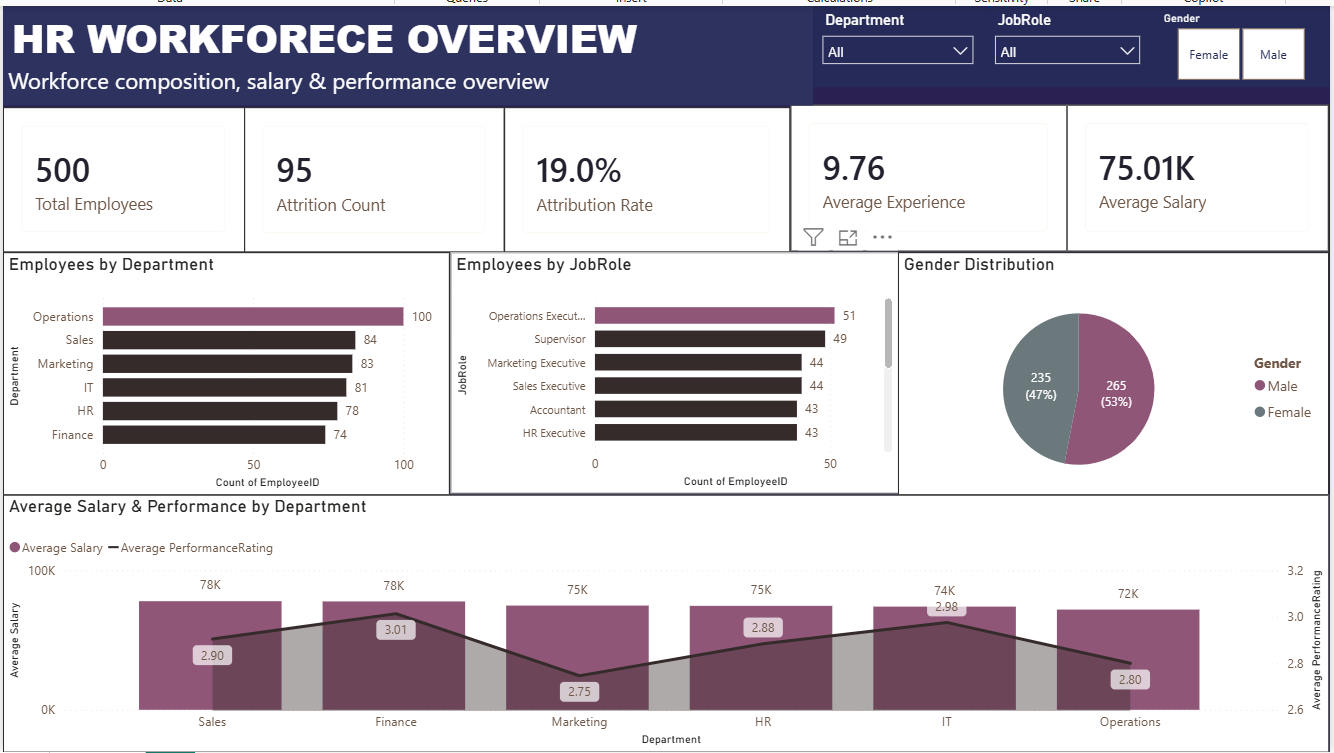

The dashboard page shown, as its layout file describes it:
{"tool":"powerbi","page":{"name":"Page 1","canvas":[1280,720],"ordinal":0},"visuals":[{"type":"cardVisual","fields":{"Data":["Sheet.Total Employees"]},"box":[0,97.4,233.3,140],"z":0},{"type":"cardVisual","title":"Attrition Count","fields":{"Data":["Sheet.attrition count"]},"box":[232.9,97.1,251.4,140],"z":1000},{"type":"cardVisual","fields":{"Data":["Sheet.attribution rate"]},"box":[484.3,97.1,275.7,140],"z":2000},{"type":"cardVisual","fields":{"Data":["Avg(Sheet.Experience)"]},"box":[760,95.7,267.1,141.4],"z":3000},{"type":"barChart","title":" Employees by Department","fields":{"Y":["CountNonNull(Sheet.EmployeeID)"],"Category":["Sheet.Department"]},"box":[0,237.4,430.9,234.6],"z":4000},{"type":"cardVisual","fields":{"Data":["Avg(Sheet.Salary)"]},"box":[1027.1,95.7,252.9,141.4],"z":5000},{"type":"barChart","title":" Employees by JobRole","fields":{"Category":["Sheet.JobRole"],"Y":["CountNonNull(Sheet.EmployeeID)"]},"box":[431.4,237.1,432.9,232.9],"z":6000},{"type":"slicer","fields":{"Values":["Sheet.Department"]},"box":[780.8,0,166,78.2],"z":7000},{"type":"pieChart","title":"Gender Distribution","fields":{"Y":["CountNonNull(Sheet.Gender)"],"Category":["Sheet.Gender"]},"box":[864.3,237.1,415.7,234.3],"z":11000},{"type":"lineClusteredColumnComboChart","title":"Average Salary & Performance by Department","fields":{"Category":["Sheet.Department"],"Y2":["Avg(Sheet.PerformanceRating)"],"Y":["Avg(Sheet.Salary)"]},"box":[0,471.4,1280,248.6],"z":12000},{"type":"slicer","fields":{"Values":["Sheet.JobRole"]},"box":[946.8,0,160.5,78.2],"z":13000},{"type":"slicer","fields":{"Values":["Sheet.Gender"]},"box":[1107.4,0,172.9,78.2],"z":14000},{"type":"textbox","box":[0,0,781.4,95.7],"z":15000}]}

Visuals, with their boxes in screenshot pixels (x1, y1, x2, y2):
cardVisual - Sheet.Total Employees: <box>7,104,247,247</box>
"Attrition Count" cardVisual: <box>246,103,505,247</box>
cardVisual - Sheet.attribution rate: <box>505,103,788,247</box>
cardVisual - Avg(Sheet.Experience): <box>788,102,1063,247</box>
" Employees by Department" barChart: <box>7,247,450,489</box>
cardVisual - Avg(Sheet.Salary): <box>1063,102,1323,247</box>
" Employees by JobRole" barChart: <box>450,247,895,487</box>
slicer - Sheet.Department: <box>809,3,980,84</box>
"Gender Distribution" pieChart: <box>895,247,1323,488</box>
"Average Salary & Performance by Department" lineClusteredColumnComboChart: <box>7,488,1323,743</box>
slicer - Sheet.JobRole: <box>980,3,1145,84</box>
slicer - Sheet.Gender: <box>1145,3,1323,84</box>
textbox: <box>7,3,810,102</box>
